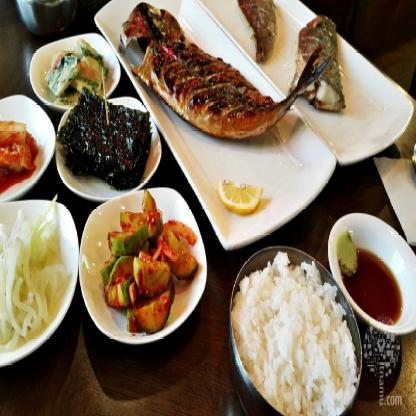Peixe: (118, 0, 315, 149), (289, 0, 344, 122)
